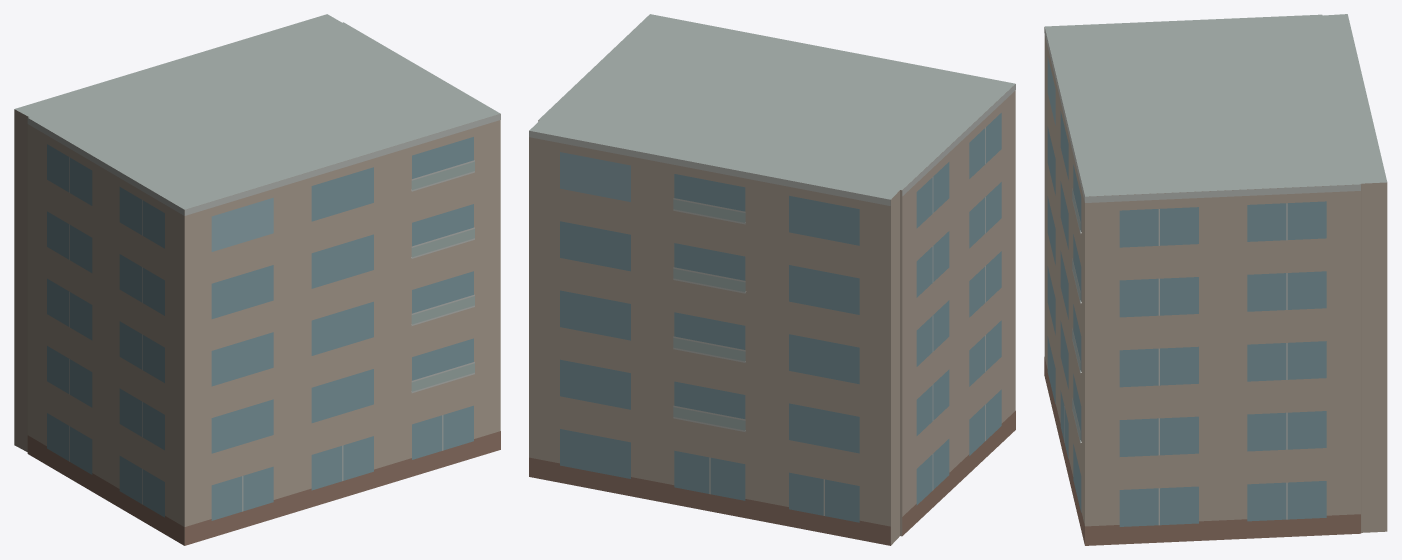
File: survey-upis-32654167.glb
The picture shows the model from 3 angles, left to right: view 1: azimuth 30°, elevation 25°; view 2: azimuth 150°, elevation 25°; view 3: azimuth 270°, elevation 25°; orthographic projection. The views are drawn at different scales.
Parts seen in each view (by area): view 1: survey-upis-32654167.tmp; view 2: survey-upis-32654167.tmp; view 3: survey-upis-32654167.tmp.
Boxes of the visible parts, x1,y1,x2,y2 form: survey-upis-32654167.tmp: (14, 14, 500, 545); survey-upis-32654167.tmp: (529, 14, 1015, 545); survey-upis-32654167.tmp: (1044, 14, 1387, 545).
Size of the model in its own units: 14.76 by 13.15 by 11.71.
